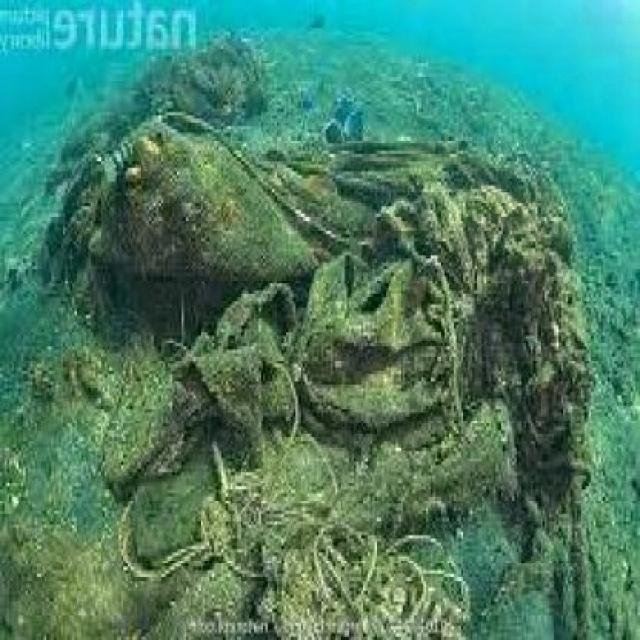net: (136, 460, 499, 640)
